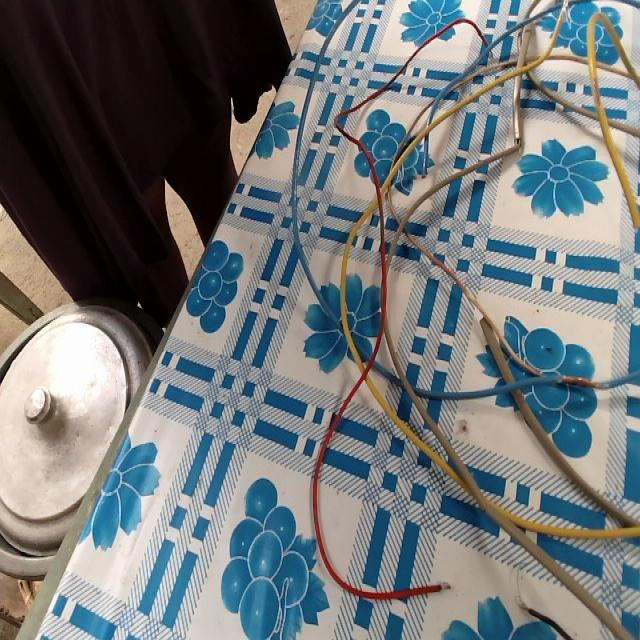-: (558, 366, 601, 394), (588, 68, 602, 111), (434, 575, 457, 596), (513, 592, 533, 616), (512, 131, 527, 152)
